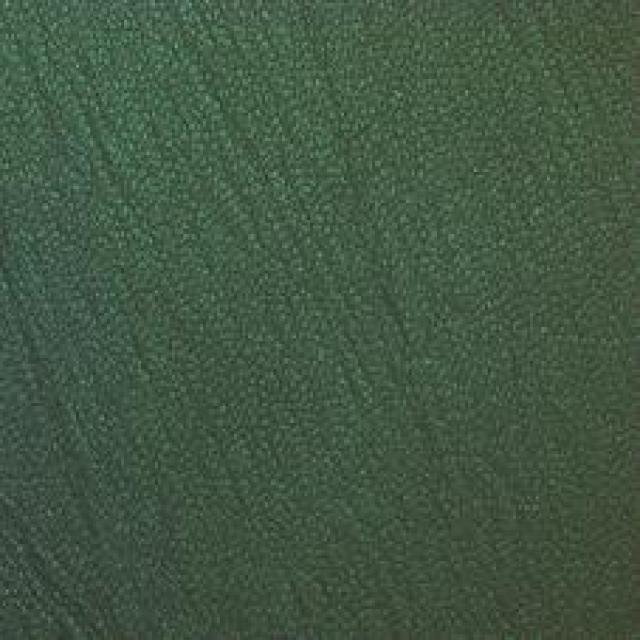Growth Marks: (152, 17, 327, 280), (348, 310, 503, 498), (30, 443, 147, 630)
